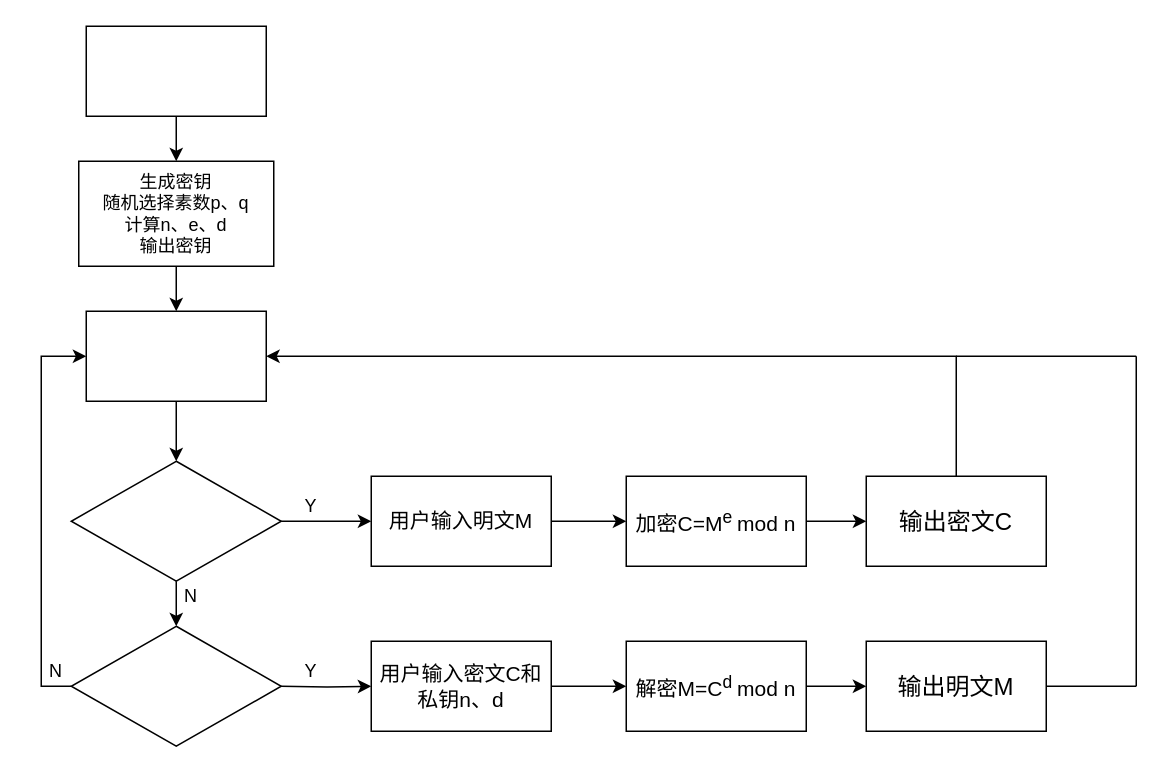
Some shapes in this 1164 by 773 pixel diagram are drawn without their labels. Here are the shapes that lost their labels. From the top down, the centre of each, then its label:
At (175,70): "程序开始".
At (175,355): "用户选择加/解密mode （1.加密 2.解密）".
At (175,520): "mode=1？".
At (175,685): "mode=2？".
